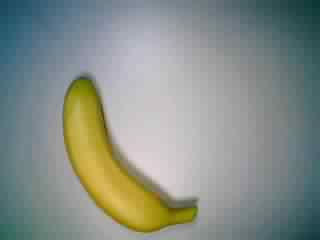banana: (59, 73, 202, 236)
